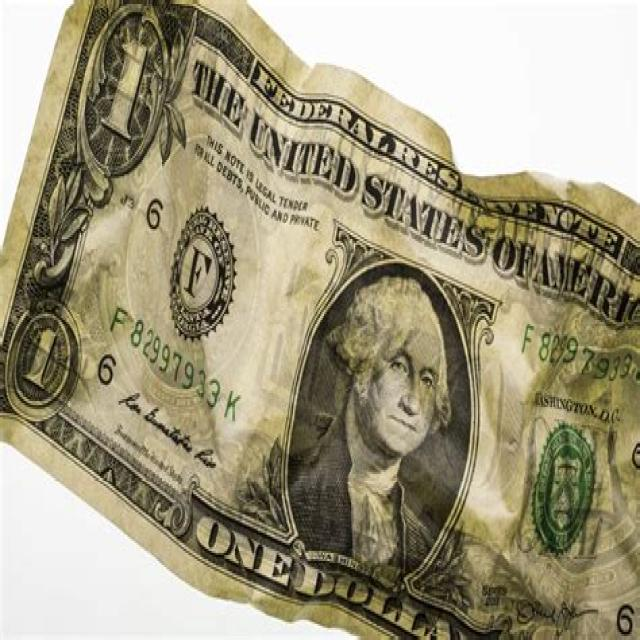banknote: (1, 0, 640, 640), (511, 405, 618, 564), (190, 503, 298, 596), (94, 26, 154, 150), (10, 306, 71, 406)
